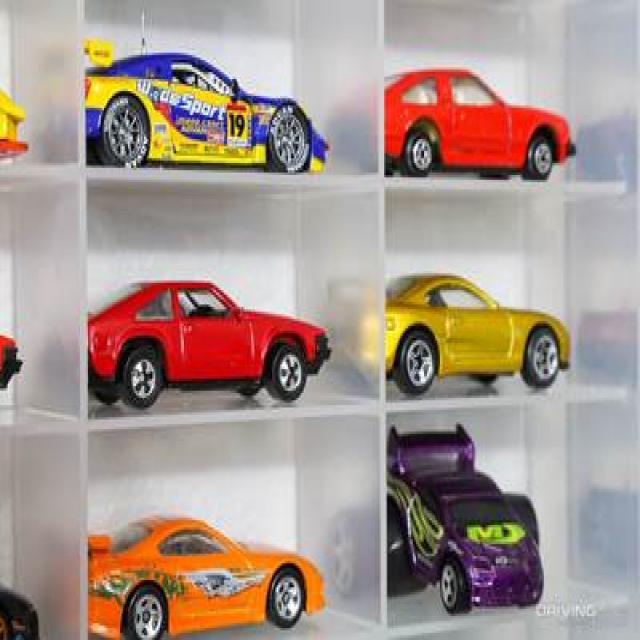Car: (85, 38, 328, 173), (88, 280, 330, 407), (88, 515, 323, 638), (386, 273, 568, 393), (386, 67, 574, 177)
